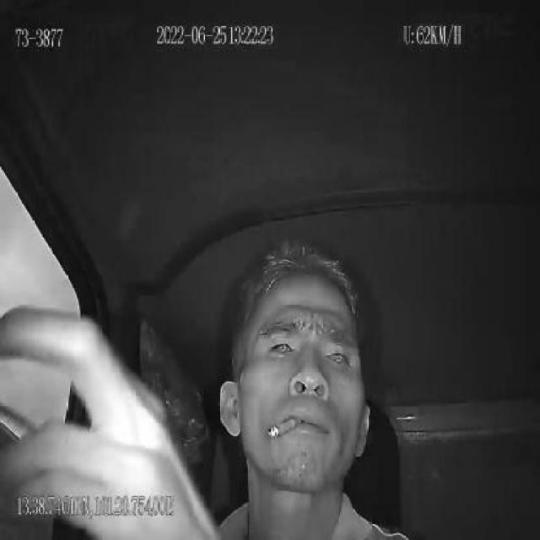smoking: (268, 417, 302, 439)
